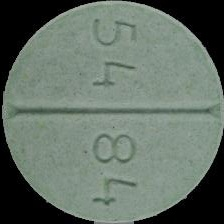43353-706: (0, 0, 224, 224)
